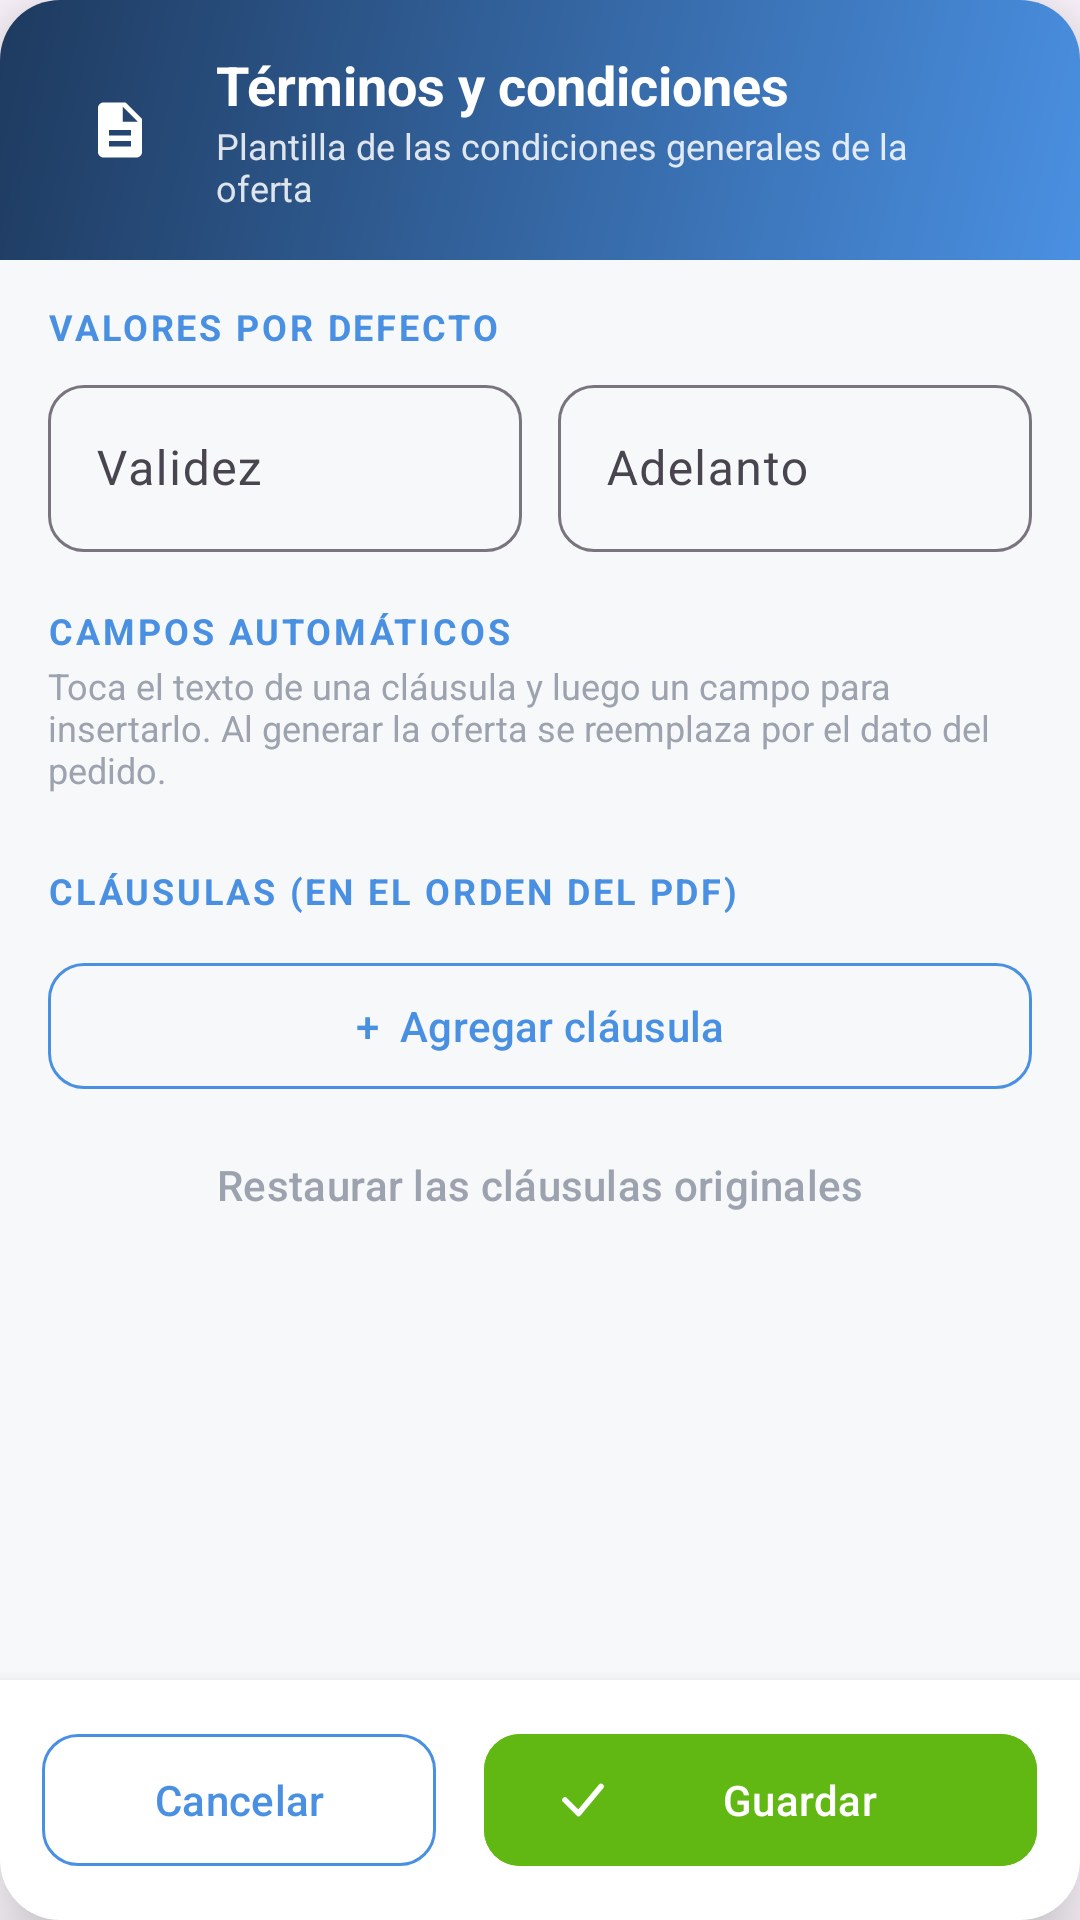

Screen size 1080px×1920px. Icon name, then its center in pixels as point (x, y):
document: point (120, 130)
